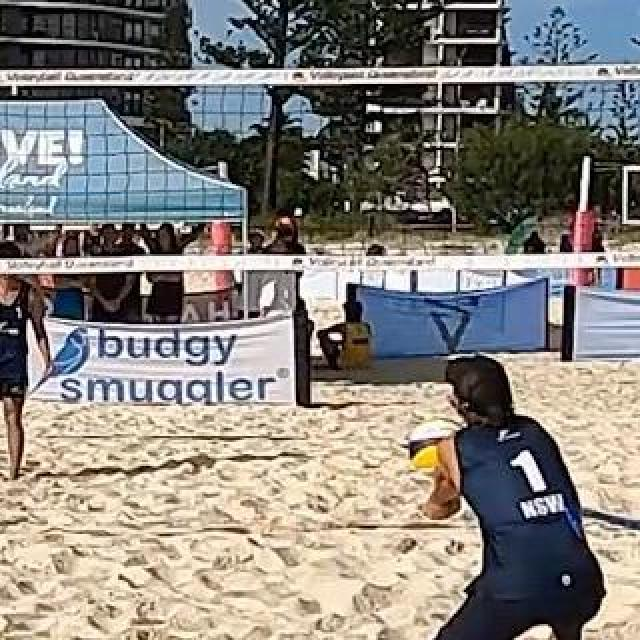volleyball: (407, 417, 471, 477)
